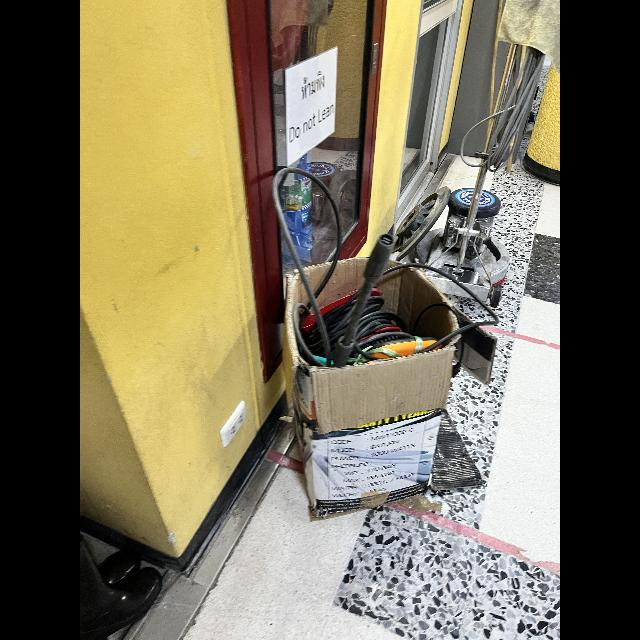cardboard_box: (292, 245, 462, 535)
